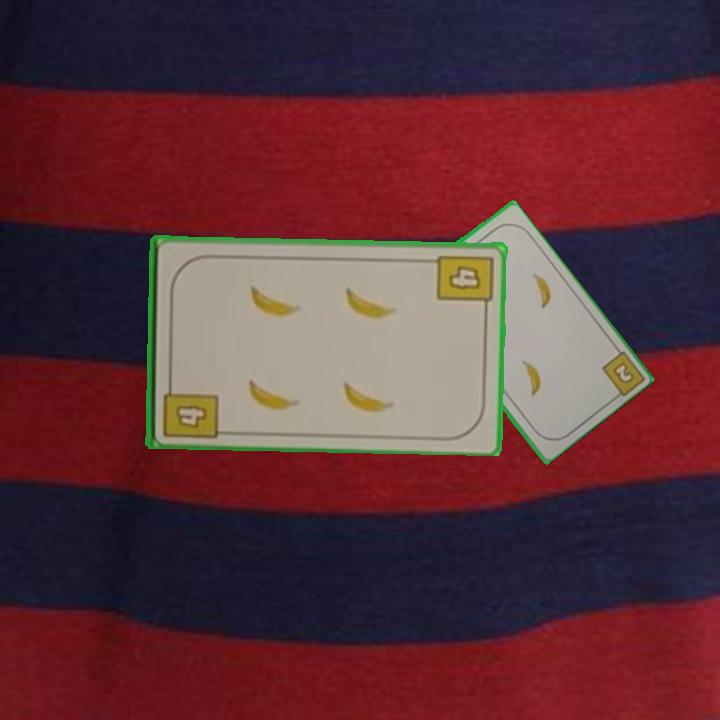2b: (609, 358, 637, 387)
4b: (158, 374, 220, 440), (433, 251, 495, 314)
